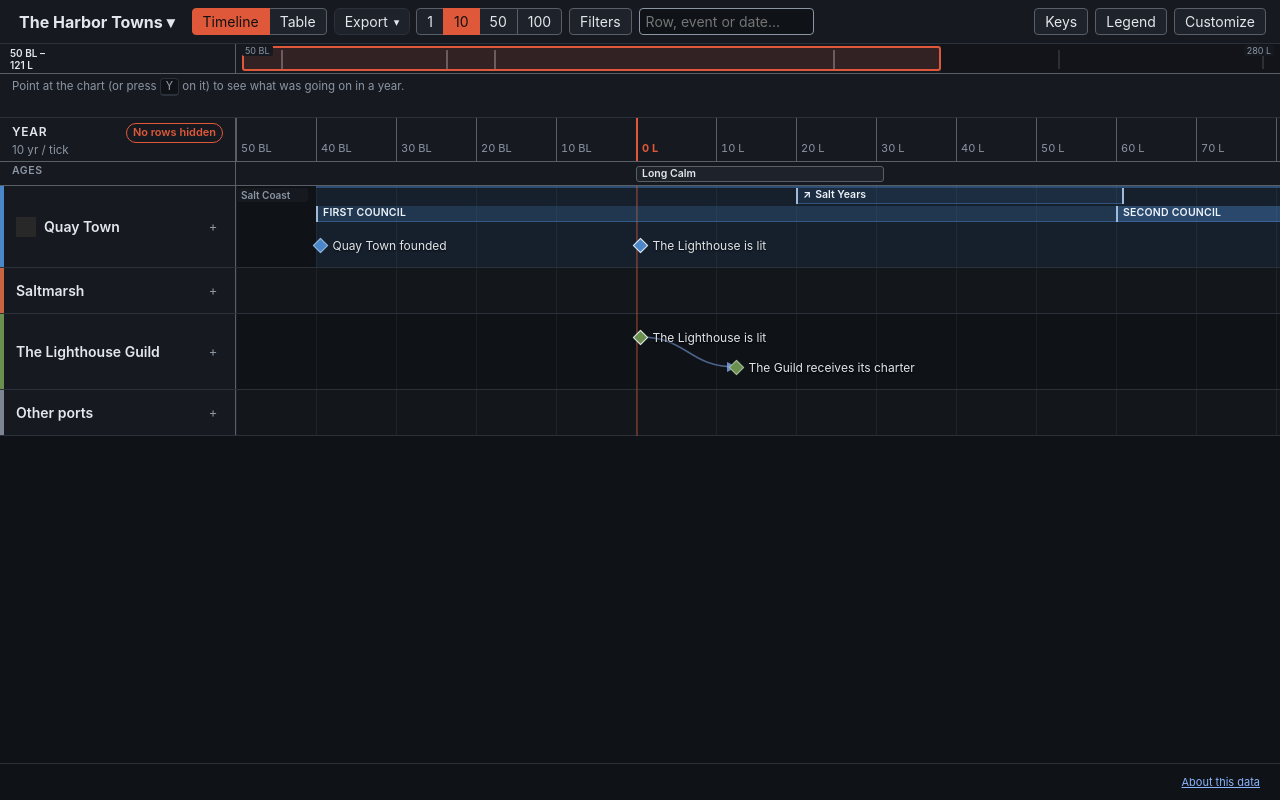
Test: ages › clicking an age opens its details in the side panel: region, article and sources as links; Escape closes it
Later steps or results of the test are not shown.
Step 1. Click the button named "Salt Years" → (960, 195), box [796,186,1124,204]
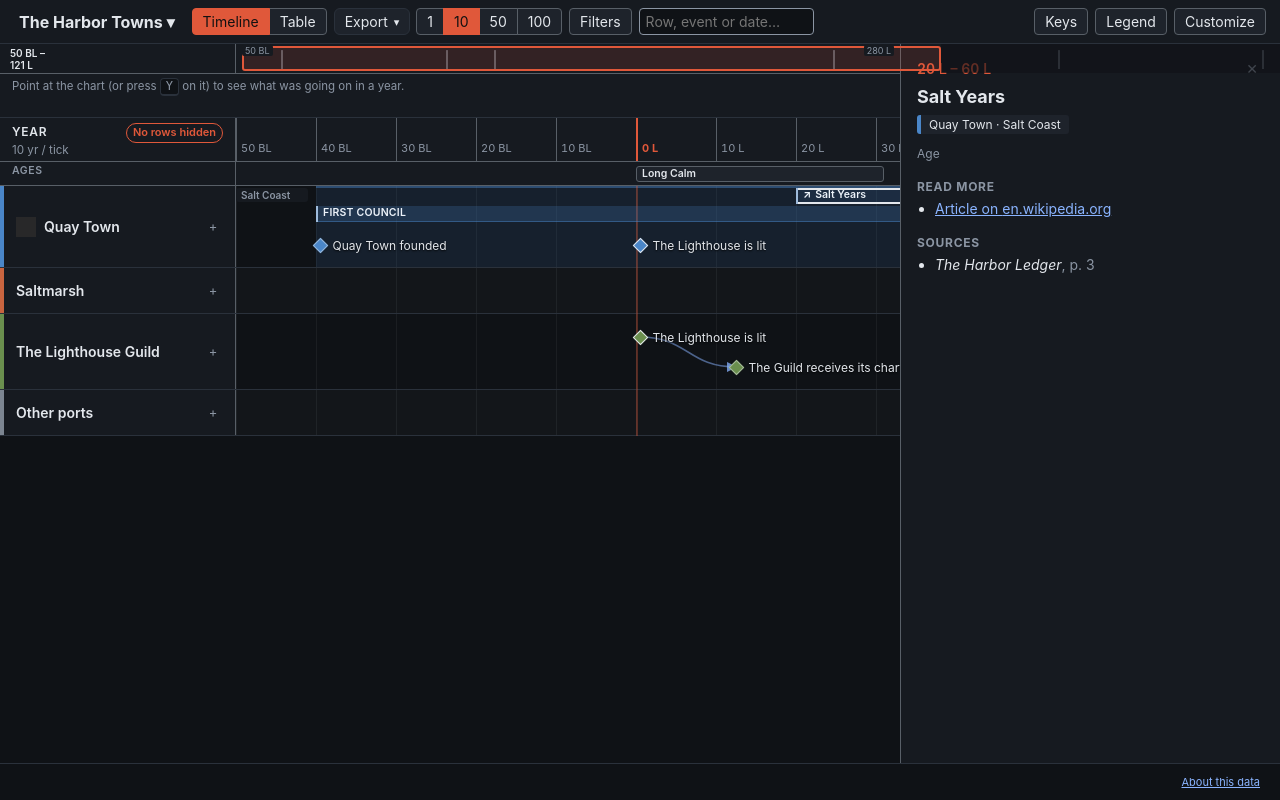
Expected: the heading "Sources" is shown, [917,235,980,250]
